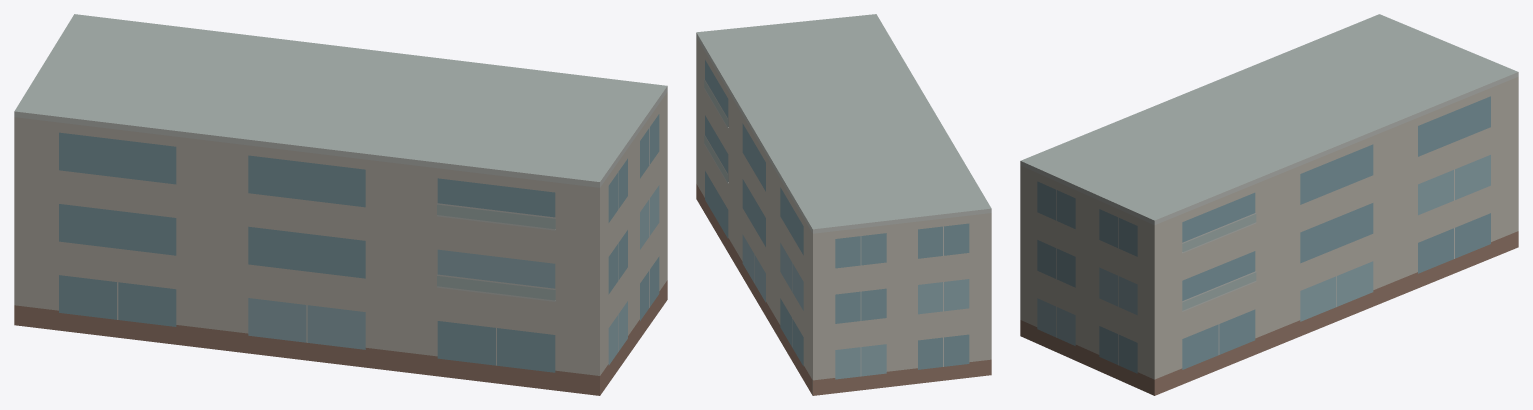
File: survey-upis-32678603.glb
The picture shows the model from 3 angles, left to right: view 1: azimuth 30°, elevation 25°; view 2: azimuth 150°, elevation 25°; view 3: azimuth 270°, elevation 25°; orthographic projection. The views are drawn at different scales.
Visible parts, largest first — view 1: survey-upis-32678603.tmp; view 2: survey-upis-32678603.tmp; view 3: survey-upis-32678603.tmp.
Part boxes in pixels (bbox=[...]): survey-upis-32678603.tmp: bbox=[14, 14, 667, 395]; survey-upis-32678603.tmp: bbox=[696, 14, 991, 395]; survey-upis-32678603.tmp: bbox=[1020, 14, 1518, 395].
Bounding box in the file's own units: 23.13 × 9.15 × 23.57.
